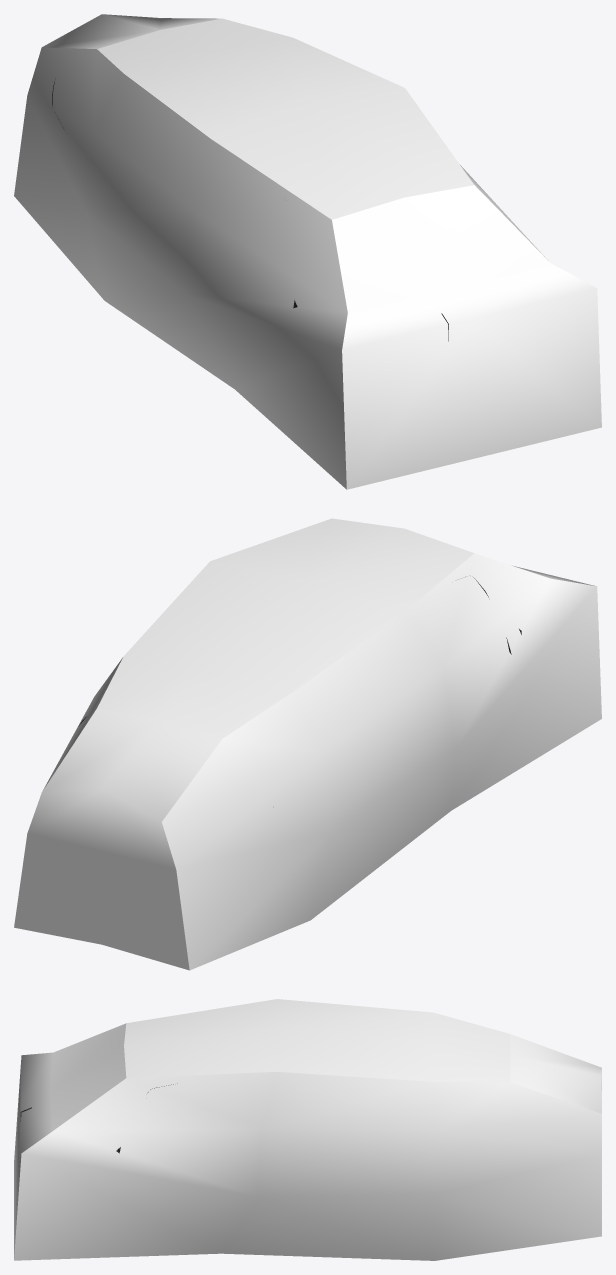
File: DA62_INTERIOR_LOD02.gltf
3 renders of one model, top to bottom at view 1: azimuth 30°, elevation 25°; view 2: azimuth 150°, elevation 25°; view 3: azimuth 270°, elevation 25°, orthographic. The views are drawn at different scales.
Parts seen in each view (by area): view 1: Occluder; view 2: Occluder; view 3: Occluder.
Boxes of the visible parts, x1,y1,x2,y2 form: Occluder: [14, 14, 601, 489]; Occluder: [14, 518, 601, 970]; Occluder: [14, 999, 601, 1260].
Bounding box in the file's own units: 1.47 × 1.28 × 3.51.
